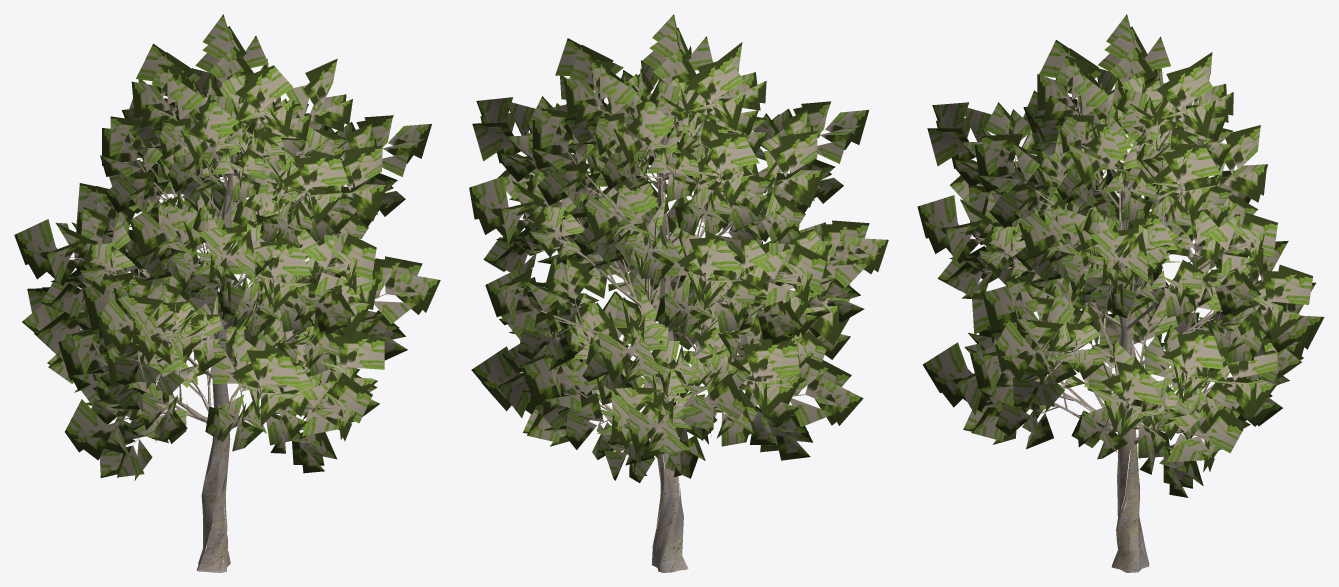
File: beech.glb
The picture shows the model from 3 angles, left to right: view 1: azimuth 30°, elevation 25°; view 2: azimuth 150°, elevation 25°; view 3: azimuth 270°, elevation 25°; orthographic projection.
Parts seen in each view (by area): view 1: Tree_1, Tree_0; view 2: Tree_1, Tree_0; view 3: Tree_1, Tree_0.
Part boxes in pixels (left/top/right/bottom): Tree_1: left=14, top=14, right=440, bottom=480; Tree_0: left=70, top=105, right=399, bottom=572; Tree_1: left=469, top=14, right=888, bottom=482; Tree_0: left=520, top=106, right=819, bottom=572; Tree_1: left=917, top=14, right=1324, bottom=497; Tree_0: left=971, top=102, right=1263, bottom=572.
Size of the model in its own units: 10.65 by 14.01 by 9.86.
Materials: 2 (2 with a texture image).
